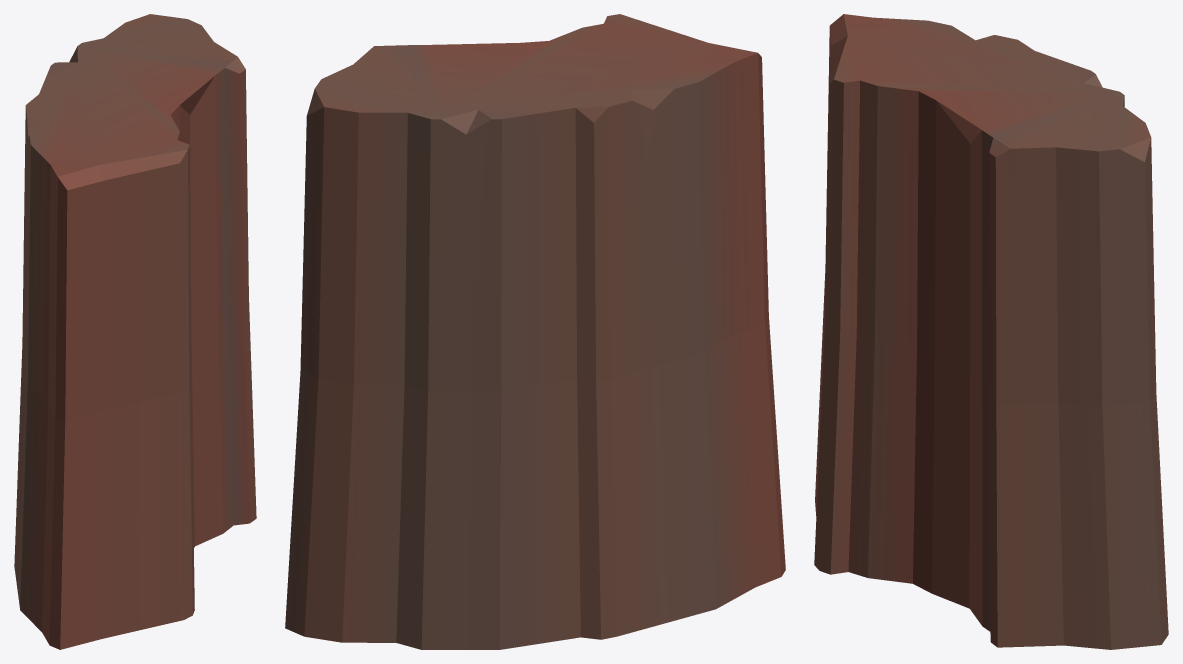
File: SuperGrid_RingQuarter_018_Vlad.fbx
The picture shows the model from 3 angles, left to right: view 1: azimuth 30°, elevation 25°; view 2: azimuth 150°, elevation 25°; view 3: azimuth 270°, elevation 25°; orthographic projection. The views are drawn at different scales.
Parts seen in each view (by area): view 1: SuperGrid_RingQuarter.018; view 2: SuperGrid_RingQuarter.018; view 3: SuperGrid_RingQuarter.018.
Part boxes in pixels (<box>): SuperGrid_RingQuarter.018: <box>14,14,256,649</box>; SuperGrid_RingQuarter.018: <box>285,14,785,649</box>; SuperGrid_RingQuarter.018: <box>814,14,1168,649</box>.
Bounding box in the file's own units: 329 × 500 × 326.
